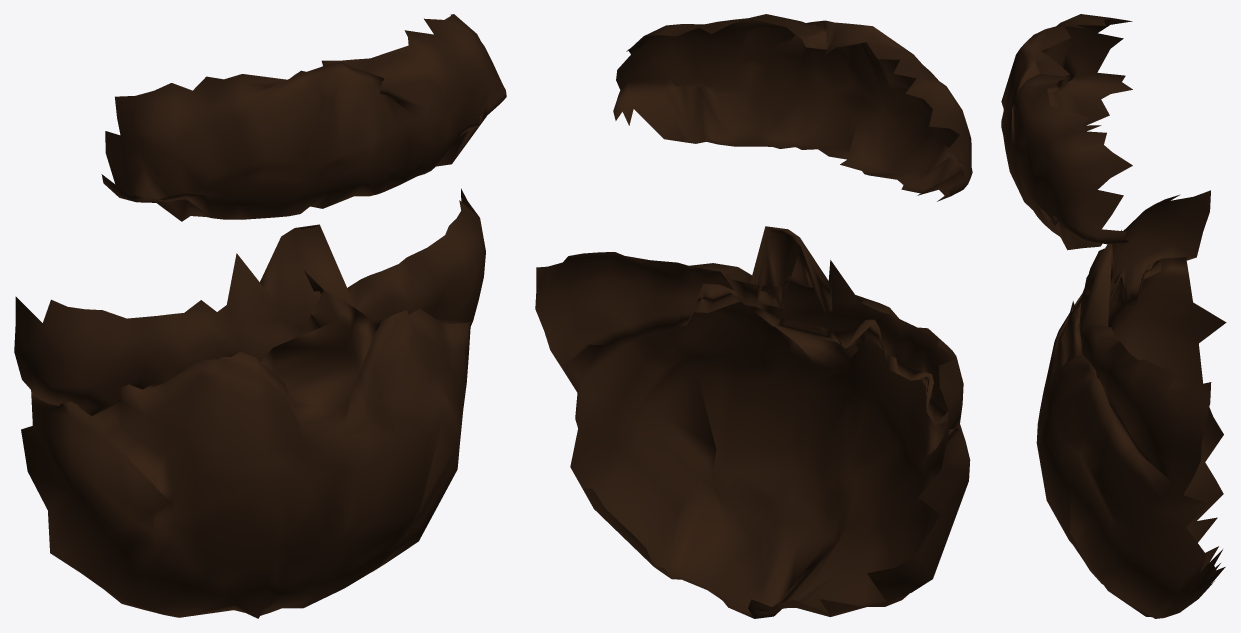
Rendered from kopf.bart.kinnbart.glb.
The picture shows the model from 3 angles, left to right: view 1: azimuth 30°, elevation 25°; view 2: azimuth 150°, elevation 25°; view 3: azimuth 270°, elevation 25°; orthographic projection. The views are drawn at different scales.
Parts seen in each view (by area): view 1: bart; view 2: bart; view 3: bart.
Boxes of the visible parts, x1,y1,x2,y2 form: bart: (14, 14, 506, 618); bart: (535, 14, 972, 618); bart: (1001, 14, 1226, 618).
Size of the model in its own units: 0.05 by 0.0631 by 0.0243.
